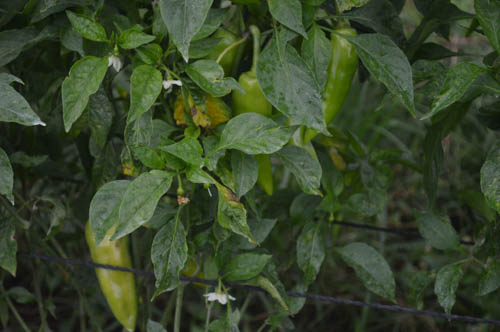ChiliPepper: (303, 12, 365, 142), (77, 216, 144, 332), (233, 72, 280, 196), (198, 24, 242, 70)
